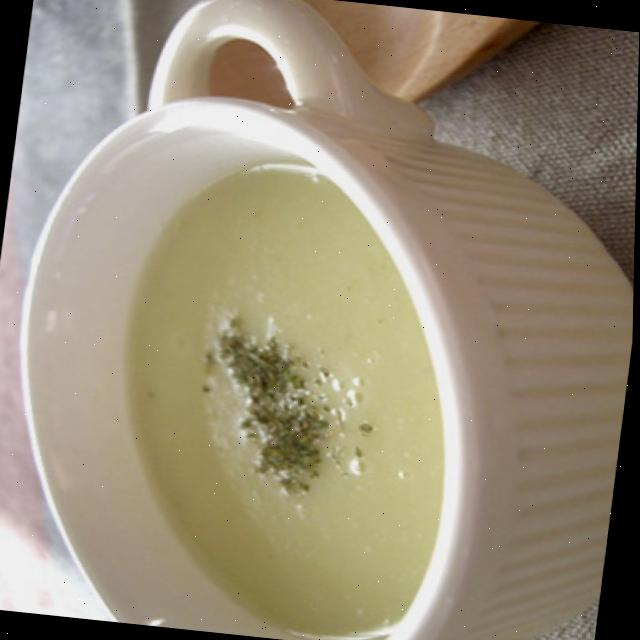汤锅炖物: (0, 67, 639, 640)
